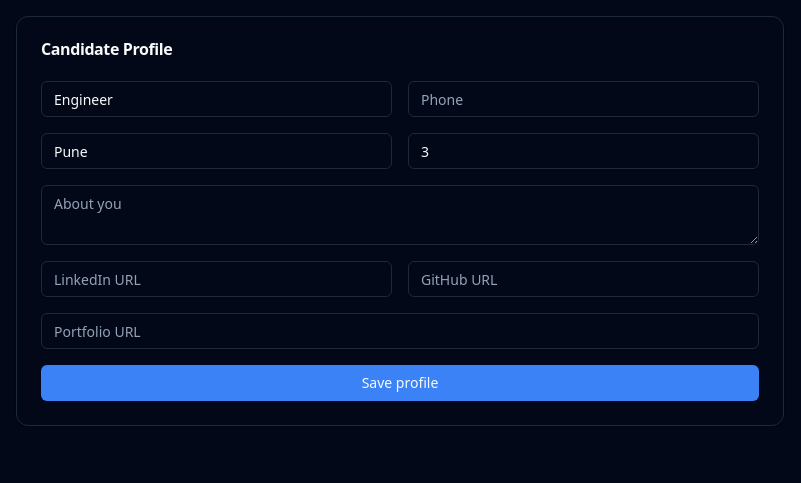
Test: candidate profile form › loads an existing profile and saves edits
This screenshot has width=801, height=483.
Replace the text in the field named "headline" with "Senior Engineer" at point(216, 99), box [41, 81, 392, 117]
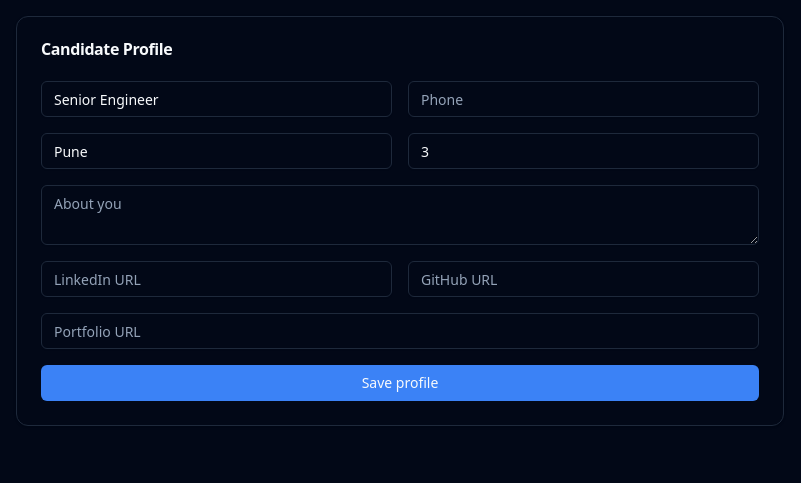
Replace the text in the number field named "Years of experience" with "4" at point(584, 151), box [408, 133, 759, 169]
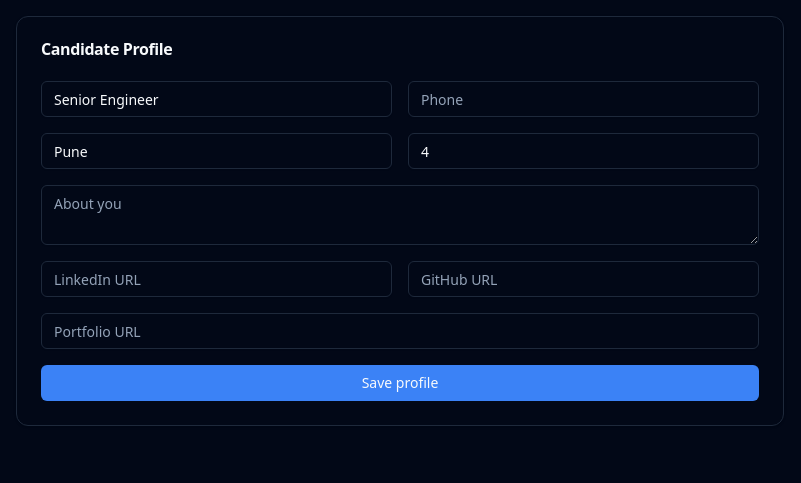
Click the button "Save profile" at point(400, 383), box [41, 365, 759, 401]
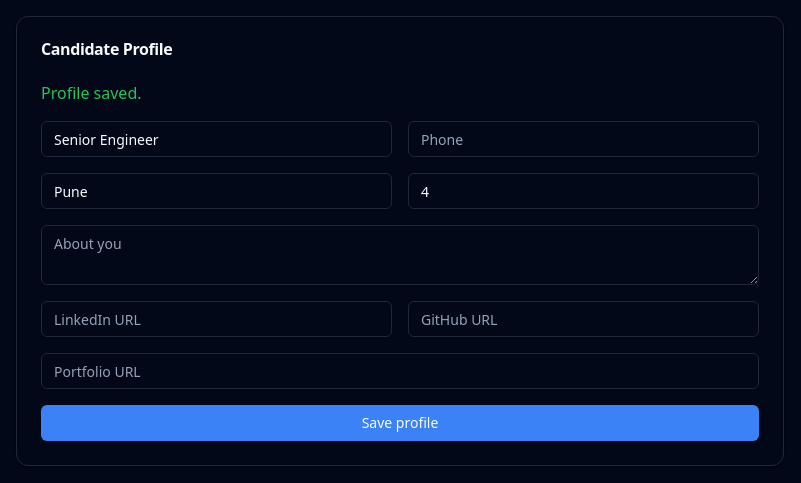
Expected: the message reads "Profile saved.", [41, 82, 142, 104]
